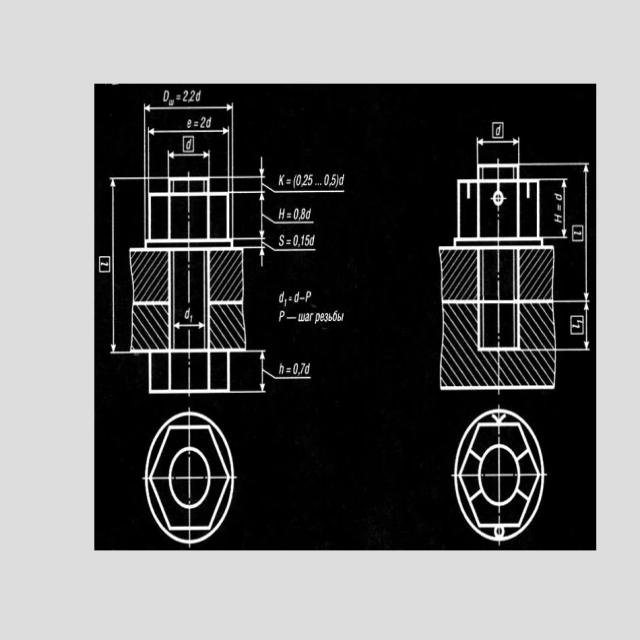marking_line: (110, 177, 130, 355), (571, 163, 591, 302), (143, 104, 234, 126), (147, 127, 230, 150), (555, 300, 590, 352), (234, 189, 266, 241), (544, 178, 569, 239), (475, 136, 521, 164), (168, 150, 211, 176), (246, 350, 266, 393), (234, 157, 264, 179), (244, 241, 266, 266), (174, 321, 205, 330)
numeric: (183, 309, 193, 323), (305, 289, 312, 304), (305, 207, 312, 220), (278, 290, 284, 304), (300, 208, 306, 221), (278, 311, 285, 322), (294, 290, 300, 302), (296, 174, 301, 188), (189, 90, 195, 101), (339, 174, 345, 185), (308, 174, 313, 187), (324, 173, 329, 186), (331, 173, 336, 186), (101, 260, 110, 267), (294, 208, 299, 220), (293, 235, 298, 247), (183, 90, 188, 102), (200, 117, 205, 129), (310, 235, 315, 247), (293, 363, 298, 374), (305, 234, 309, 247), (300, 363, 304, 376), (303, 174, 307, 186), (301, 235, 304, 248)
special_symbol: (285, 238, 292, 245), (286, 178, 292, 185), (286, 212, 291, 218)
